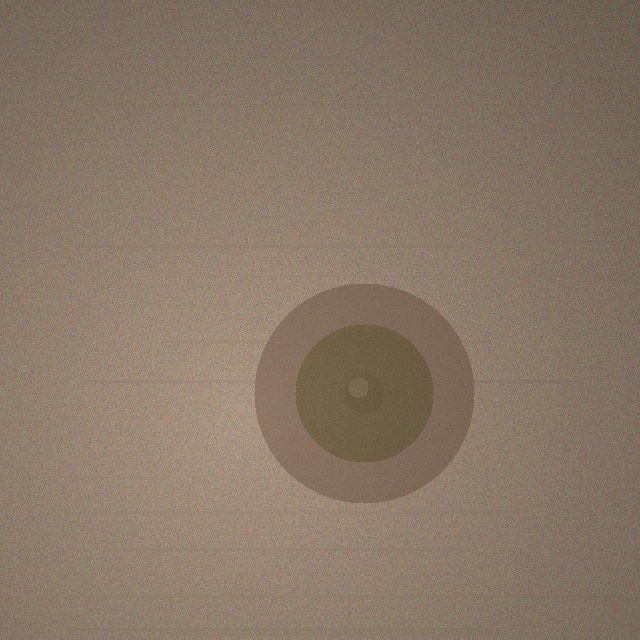good: (254, 283, 474, 503)
